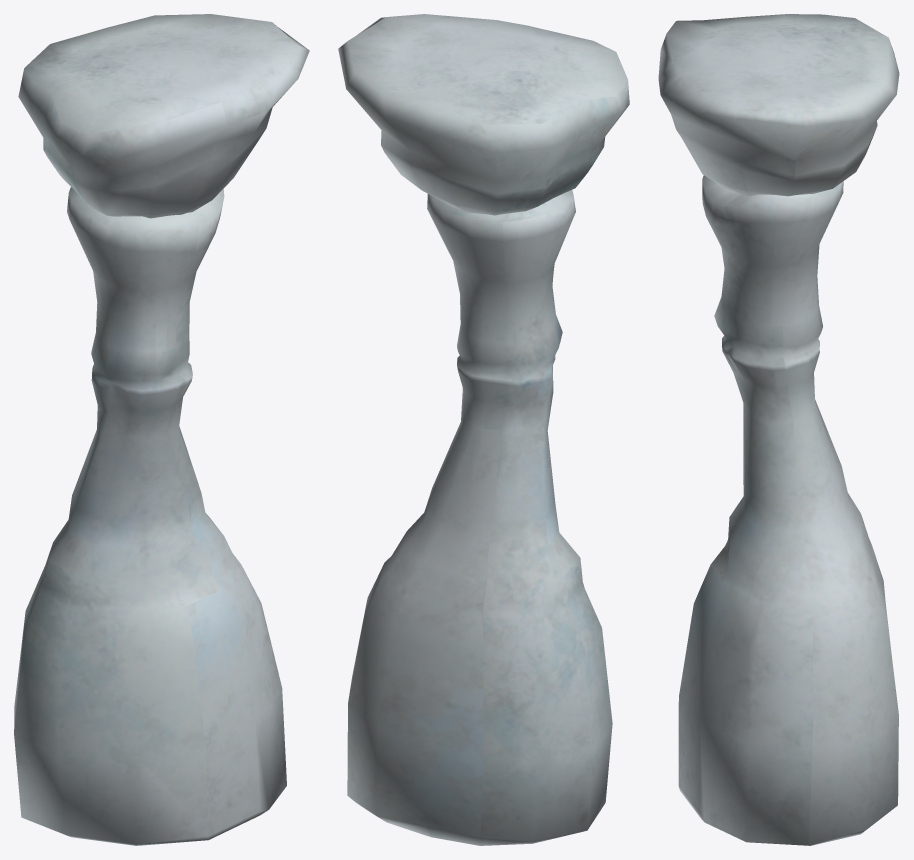
Rendered from P_RockDesert_Hoodoo02.obj.
The picture shows the model from 3 angles, left to right: view 1: azimuth 30°, elevation 25°; view 2: azimuth 150°, elevation 25°; view 3: azimuth 270°, elevation 25°; orthographic projection.
Bounding box in the file's own units: 5.36 × 14.8 × 4.32.
